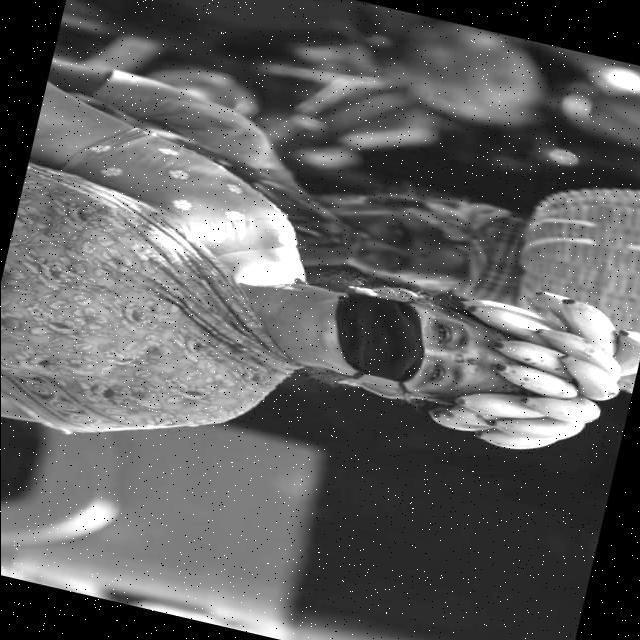mask: (338, 284, 420, 388)
no_gloves: (480, 283, 640, 454)
